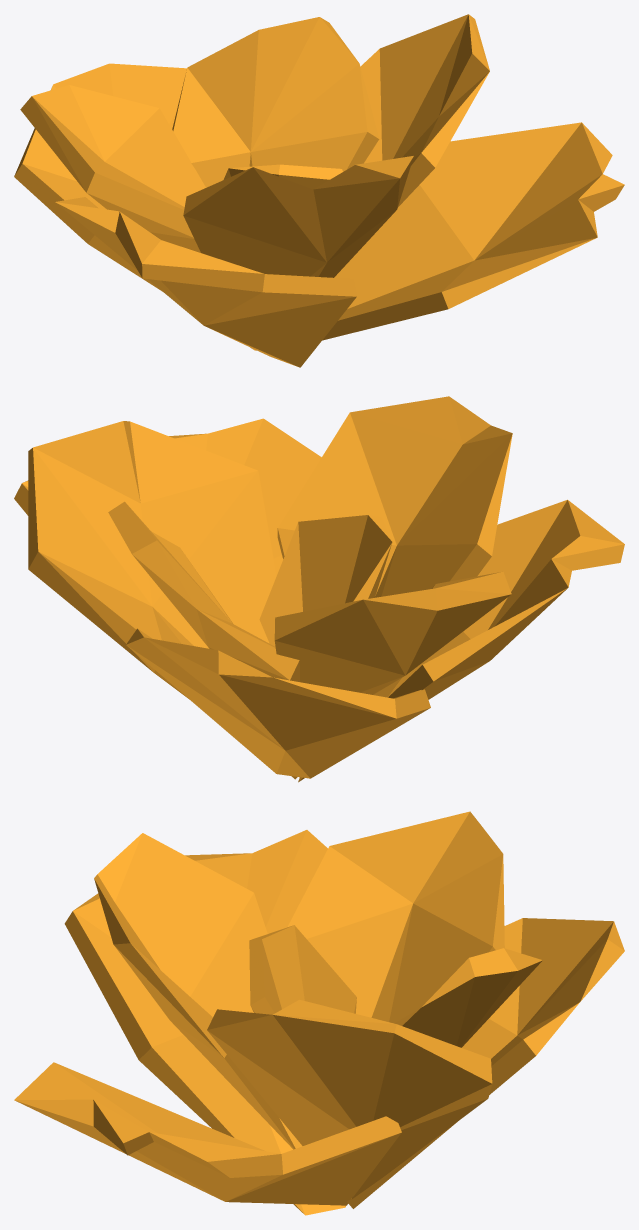
Rendered from SM_Salad_Mature_B.fbx.
The picture shows the model from 3 angles, top to bottom: view 1: azimuth 30°, elevation 25°; view 2: azimuth 150°, elevation 25°; view 3: azimuth 270°, elevation 25°; orthographic projection. The views are drawn at different scales.
Parts seen in each view (by area): view 1: salad-mature-b; view 2: salad-mature-b; view 3: salad-mature-b.
Boxes of the visible parts, x1,y1,x2,y2 form: salad-mature-b: [14, 14, 624, 367]; salad-mature-b: [14, 396, 624, 782]; salad-mature-b: [14, 811, 624, 1215].
Bounding box in the file's own units: 0.5257 × 0.2724 × 0.4756.
